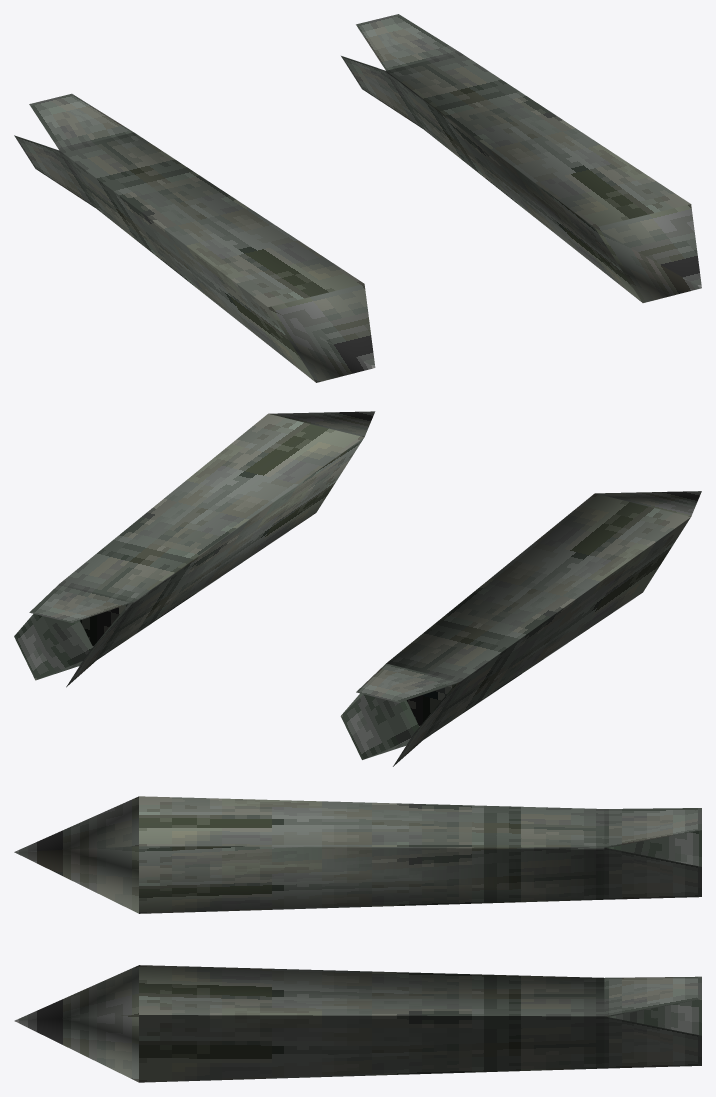
The model's file is black_sun_fighter_heavy_engine_s01_l4.fbx.
3 views of the same model, one above another, from view 1: azimuth 30°, elevation 25°; view 2: azimuth 150°, elevation 25°; view 3: azimuth 270°, elevation 25° (orthographic). The views are drawn at different scales.
Visible parts, largest first — view 1: mesh_node; view 2: mesh_node; view 3: mesh_node.
Part boxes in pixels (<box>): mesh_node: <box>14,14,701,382</box>; mesh_node: <box>14,411,701,766</box>; mesh_node: <box>14,796,701,1082</box>.
Size of the model in its own units: 7.67 by 1.55 by 10.2.
